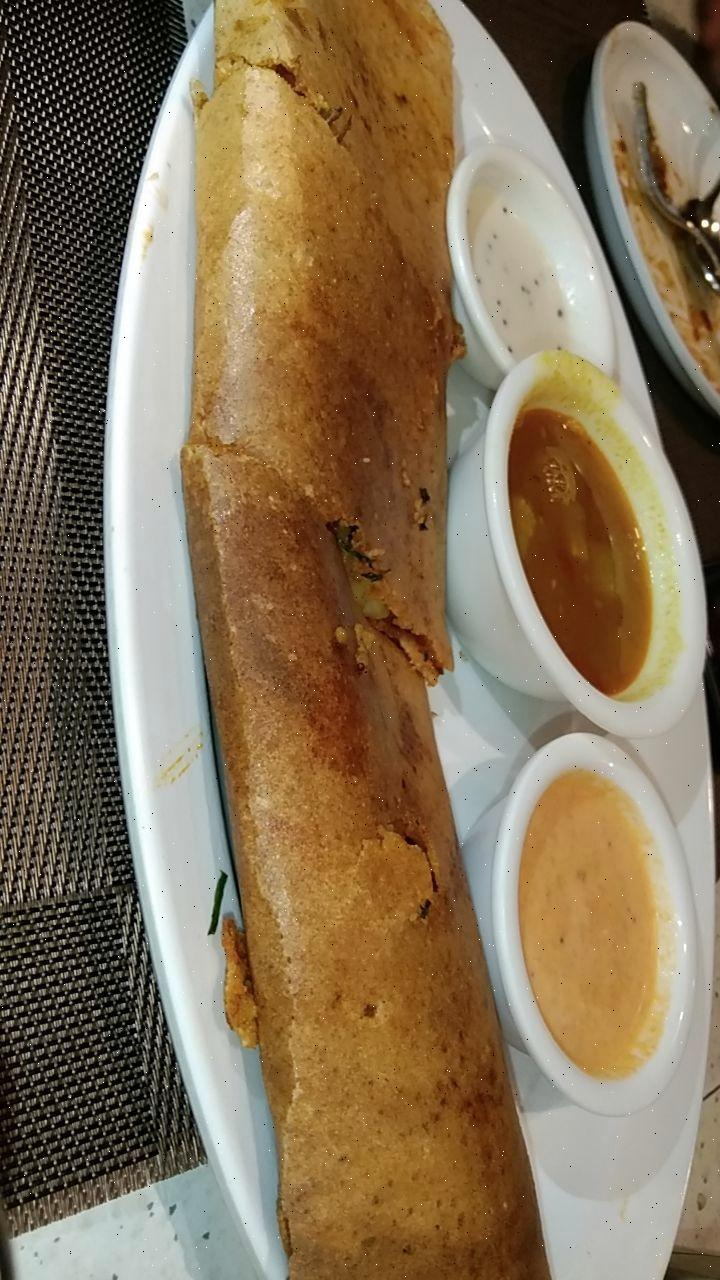dosa: (160, 6, 558, 1280)
